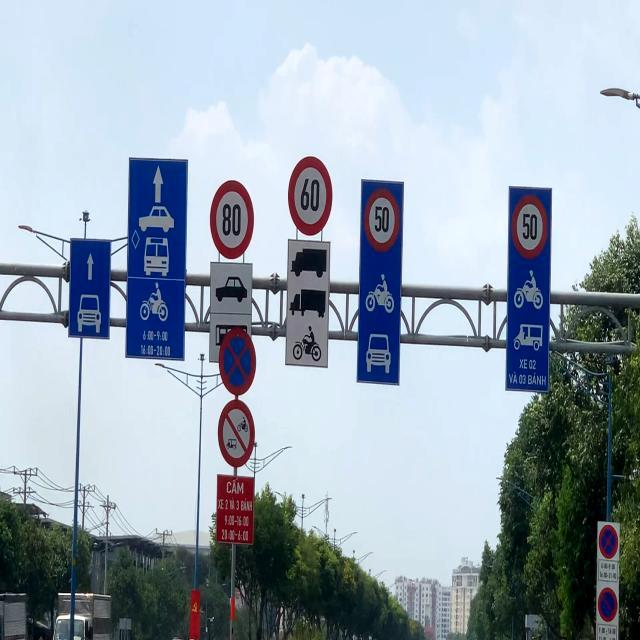Cam do xe: (598, 587, 618, 623)
Cam dung xe va do xe: (218, 328, 256, 396), (598, 524, 618, 560)
Toc do toi da cho phep: (288, 156, 333, 236), (210, 180, 254, 260), (511, 194, 548, 260), (364, 188, 400, 252)
